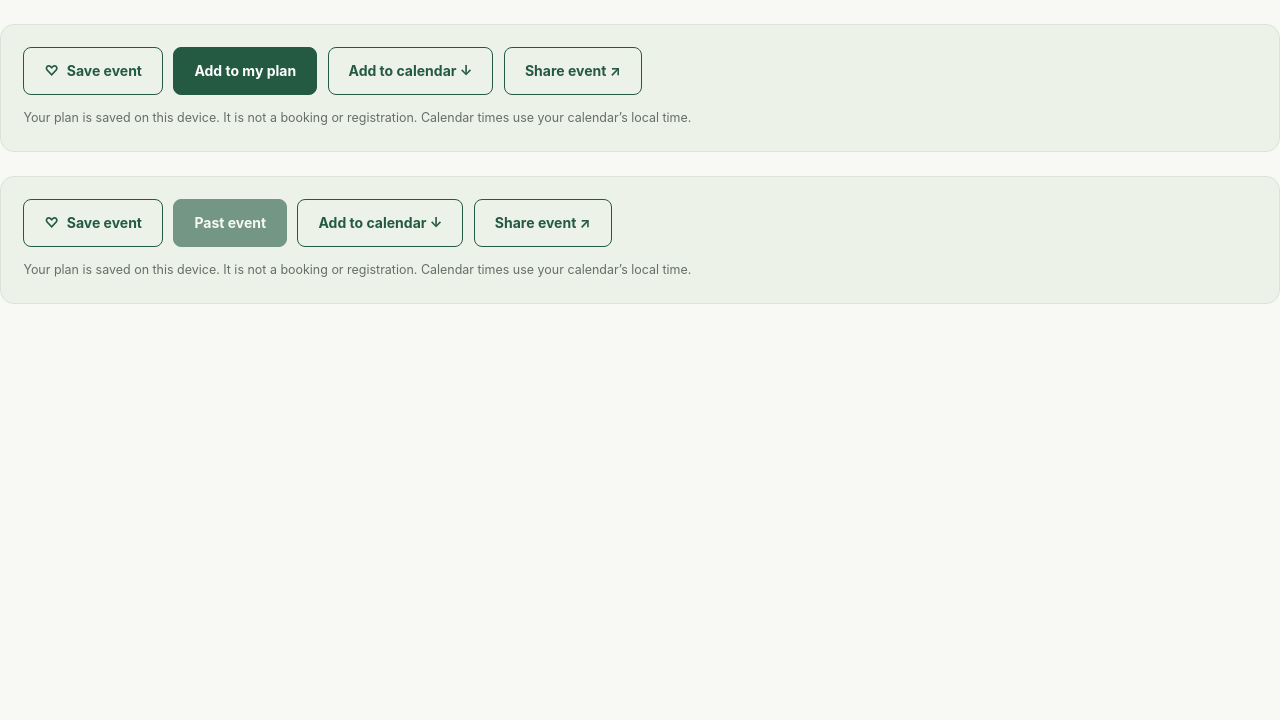
Test: adds a personal plan, removes it with undo and blocks planning past events
The image size is (1280, 720).
Check: the button "Past event" is disabled, box [173,199,287,247]
Click the button "Add to my plan": (245, 71) [173,47,317,96]
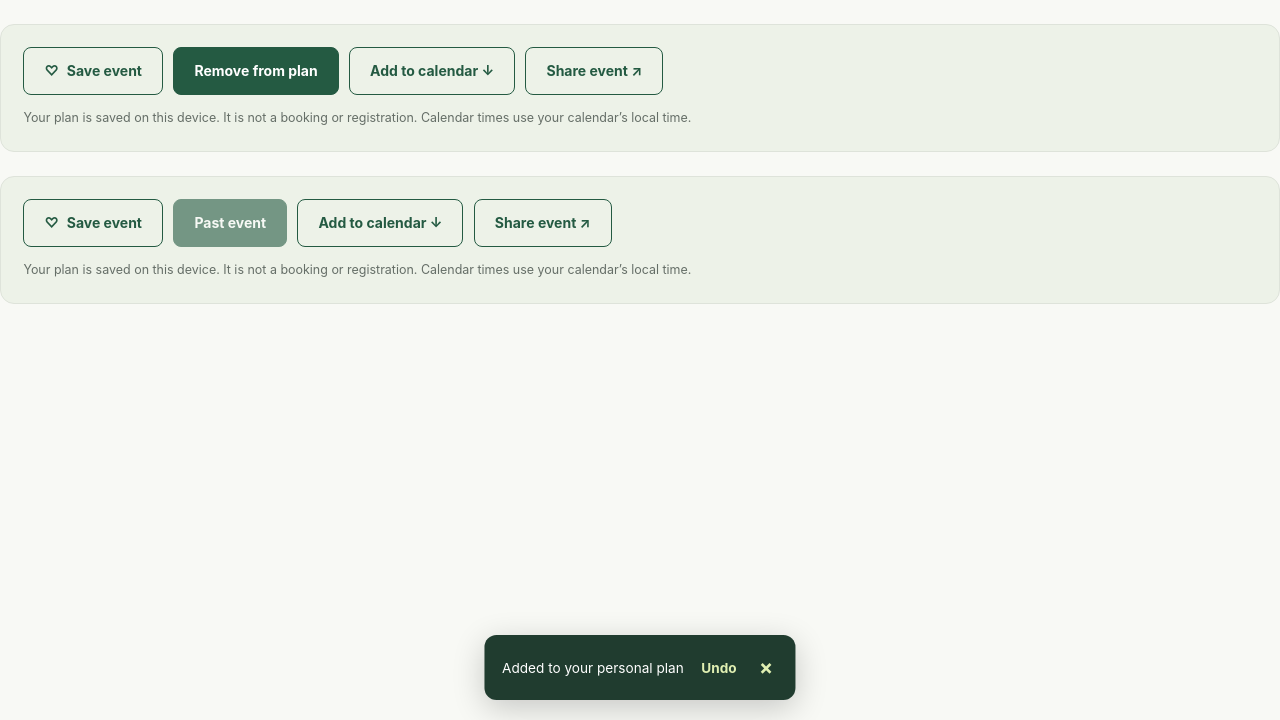
Click the button "Remove from plan": (256, 71) [173,47,339,96]
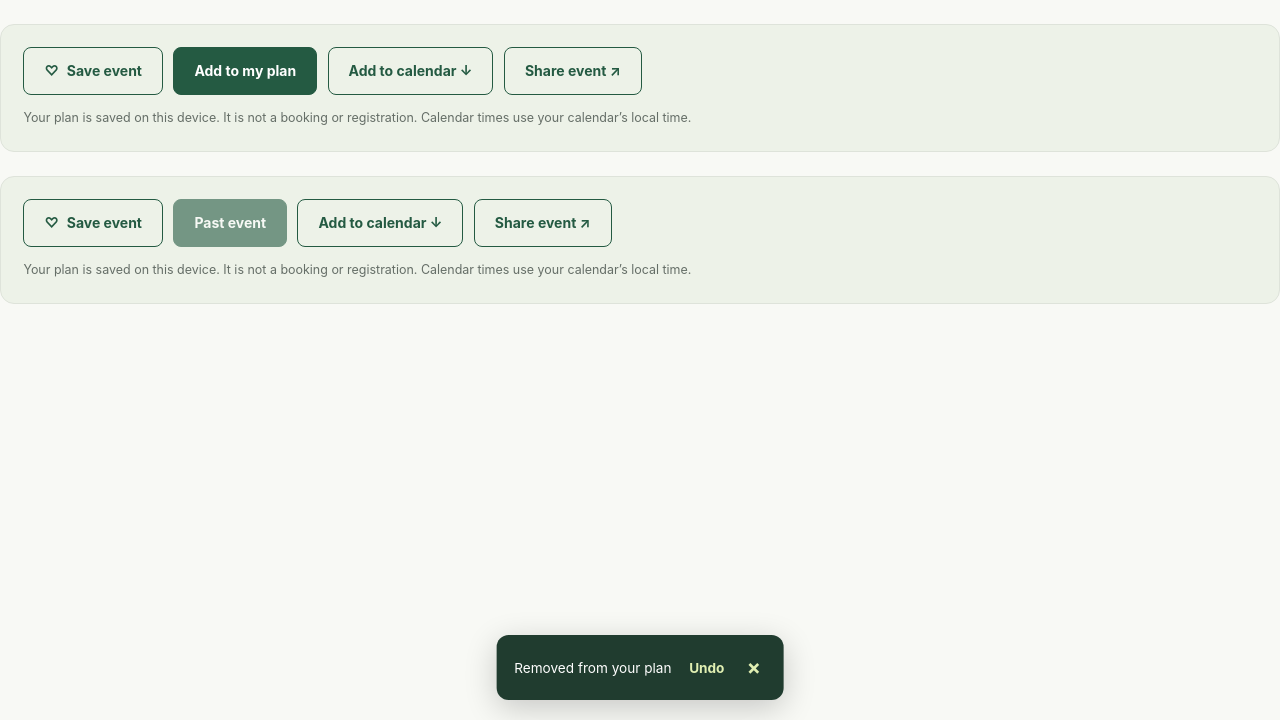
Click the button "Undo": (707, 668) [684,650,729,686]
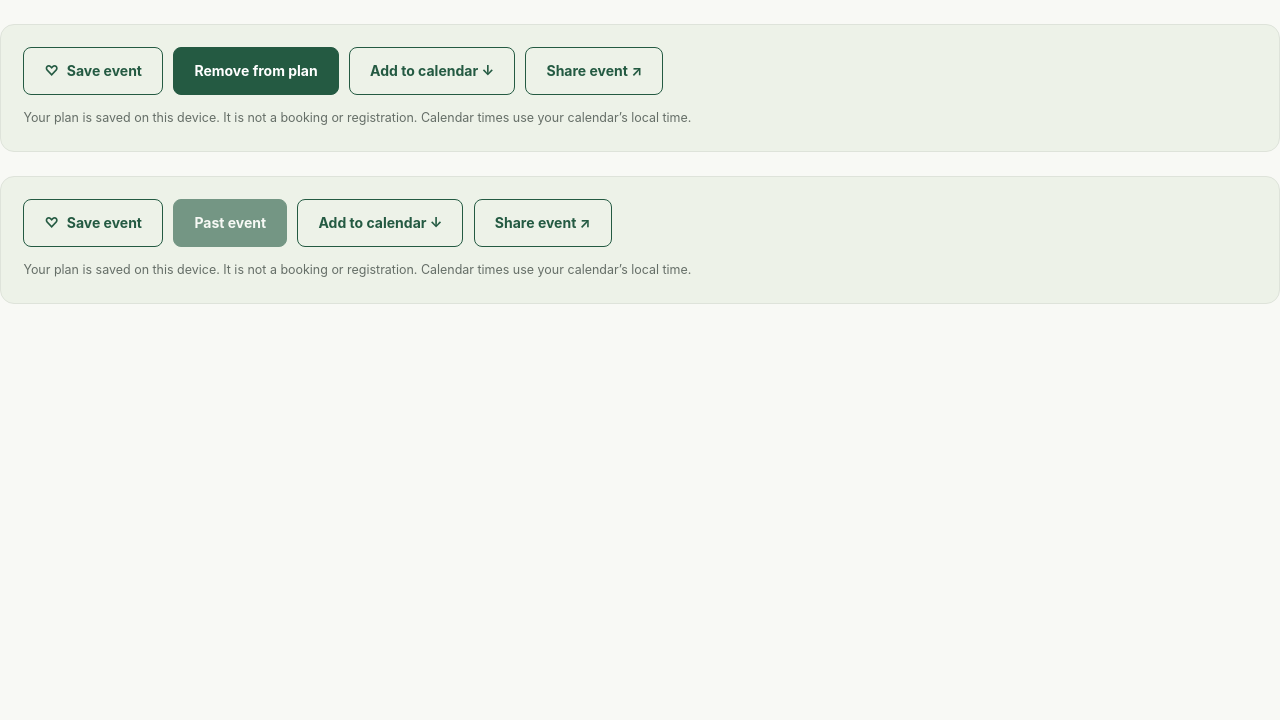
Check: the button "Remove from plan" is shown, box [173,47,339,96]
